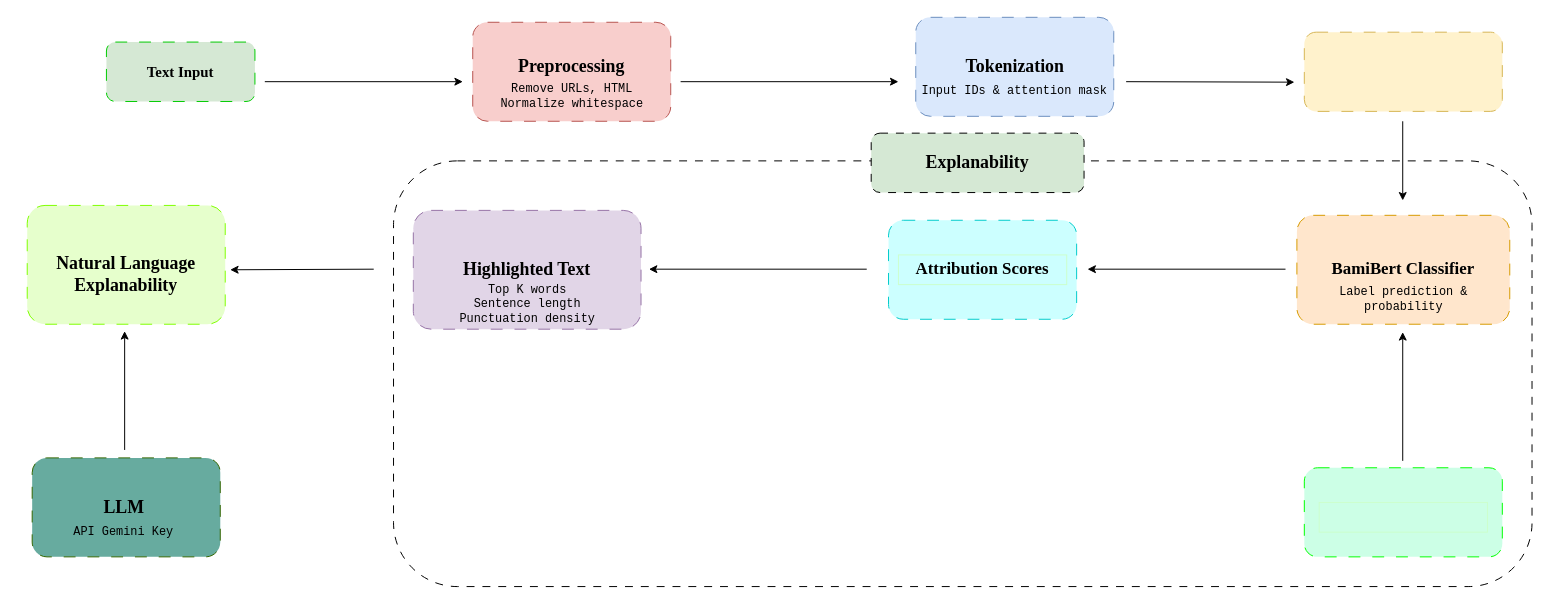
Some shapes in this 1549 by 604 pixel diagram are drawn without their labels. The shapes that lost their labels are listed below. From the top down, each one's box as (x1, y1, x2, y2) in pixels, then its label:
(1303, 31, 1502, 111): BamiBert Encoder
(1318, 501, 1487, 532): Integrated Gradient Captum
